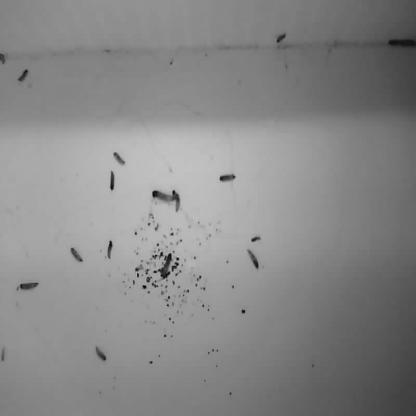PtecticusTenebrifer: (245, 247, 260, 269), (16, 66, 30, 86), (153, 190, 176, 202), (70, 247, 85, 265), (94, 345, 108, 364), (19, 280, 40, 291), (113, 151, 127, 166), (219, 172, 236, 182), (276, 32, 287, 46), (250, 235, 263, 244), (107, 241, 113, 260), (110, 170, 115, 192)
